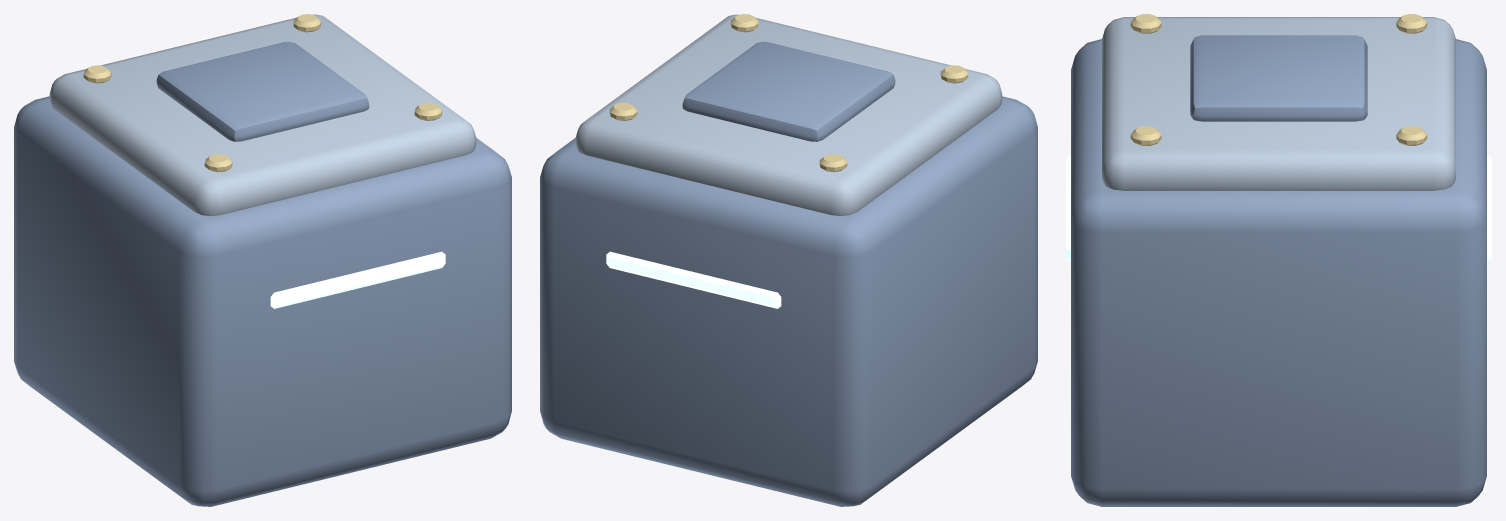
File: pillar.glb
3 views of the same model, side by side, from view 1: azimuth 30°, elevation 25°; view 2: azimuth 150°, elevation 25°; view 3: azimuth 270°, elevation 25° (orthographic). The views are drawn at different scales.
Visible parts, largest first — view 1: pillar; view 2: pillar; view 3: pillar.
Boxes of the visible parts, left/top/right/bottom form: pillar: left=14, top=14, right=511, bottom=506; pillar: left=540, top=14, right=1037, bottom=506; pillar: left=1066, top=14, right=1491, bottom=506.
Size of the model in its own units: 0.94 by 0.9 by 0.962.
